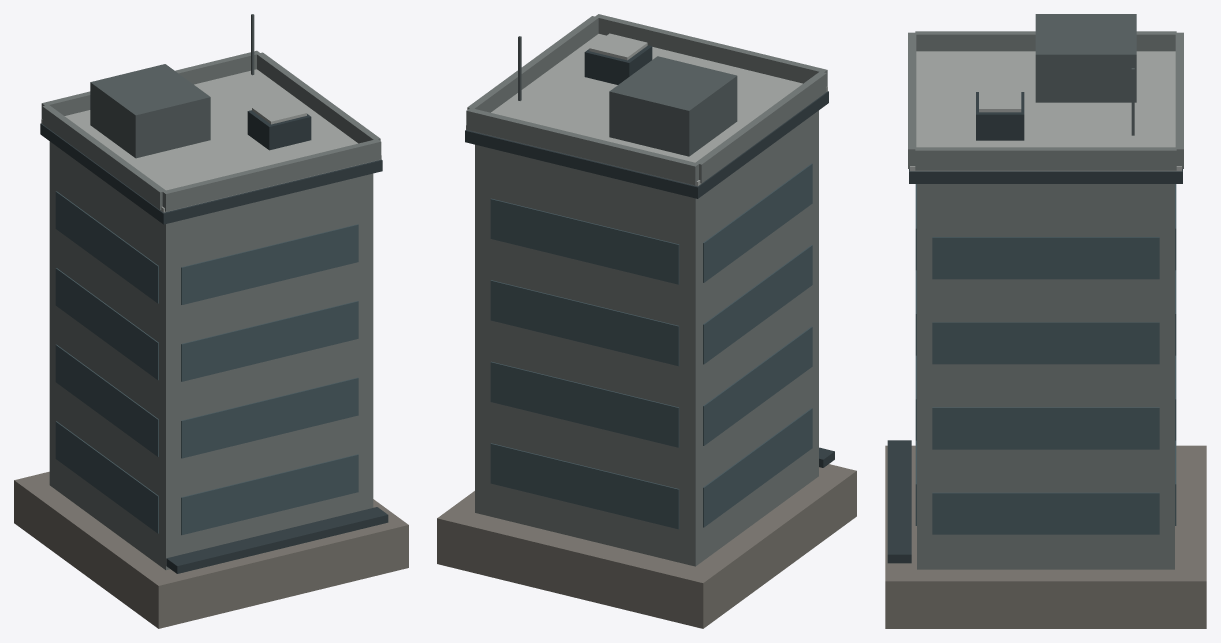
File: commercial_tower_a_lod1.glb
3 views of the same model, side by side, from view 1: azimuth 30°, elevation 25°; view 2: azimuth 150°, elevation 25°; view 3: azimuth 270°, elevation 25° (orthographic). The views are drawn at different scales.
Visible parts, largest first — view 1: KIT_main_concrete, KIT_window_glass, KIT_warm_podium, KIT_pale_edge_trim, KIT_dark_structural_metal, KIT_roof_equipment; view 2: KIT_main_concrete, KIT_window_glass, KIT_warm_podium, KIT_pale_edge_trim, KIT_roof_equipment, KIT_dark_structural_metal; view 3: KIT_main_concrete, KIT_window_glass, KIT_warm_podium, KIT_pale_edge_trim, KIT_roof_equipment, KIT_dark_structural_metal.
Boxes of the visible parts, x1,y1,x2,y2 form: KIT_main_concrete: (41,50,381,570); KIT_window_glass: (55,191,358,535); KIT_warm_podium: (14,471,408,628); KIT_pale_edge_trim: (41,69,381,212); KIT_dark_structural_metal: (40,110,388,573); KIT_roof_equipment: (90,14,254,158); KIT_main_concrete: (466,14,827,566); KIT_window_glass: (490,163,812,529); KIT_warm_podium: (437,464,856,628); KIT_pale_edge_trim: (466,33,827,186); KIT_roof_equipment: (518,36,737,156); KIT_dark_structural_metal: (465,45,834,467); KIT_main_concrete: (908,31,1183,569); KIT_window_glass: (915,184,1176,534); KIT_warm_podium: (885,445,1206,628); KIT_pale_edge_trim: (910,51,1181,171); KIT_roof_equipment: (1035,14,1136,135); KIT_dark_structural_metal: (887,92,1182,563).
Size of the model in its own units: 14 by 25.8 by 14.
